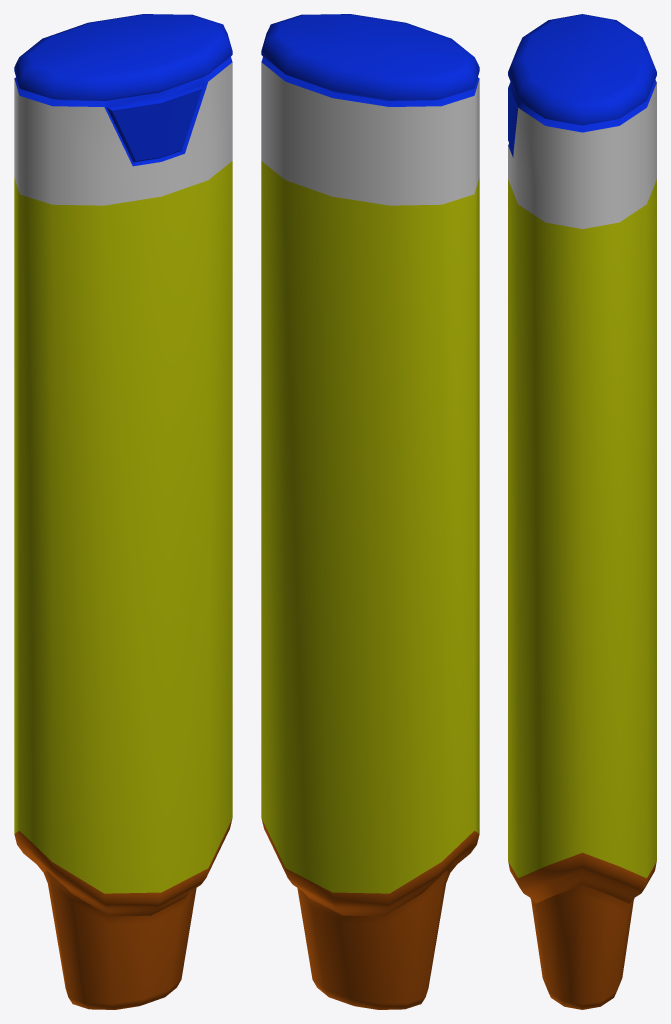
Rendered from epipen.fbx.
The picture shows the model from 3 angles, left to right: view 1: azimuth 30°, elevation 25°; view 2: azimuth 150°, elevation 25°; view 3: azimuth 270°, elevation 25°; orthographic projection. The views are drawn at different scales.
Parts seen in each view (by area): view 1: Cylinder, Cylinder.004; view 2: Cylinder, Cylinder.004; view 3: Cylinder, Cylinder.004.
Boxes of the visible parts, left/top/right/bottom form: Cylinder: left=14, top=14, right=232, bottom=1009; Cylinder.004: left=14, top=62, right=232, bottom=205; Cylinder: left=261, top=14, right=479, bottom=1009; Cylinder.004: left=261, top=62, right=479, bottom=205; Cylinder: left=508, top=14, right=656, bottom=1009; Cylinder.004: left=508, top=83, right=656, bottom=228.
Size of the model in its own units: 2.82 by 12.31 by 1.78.
